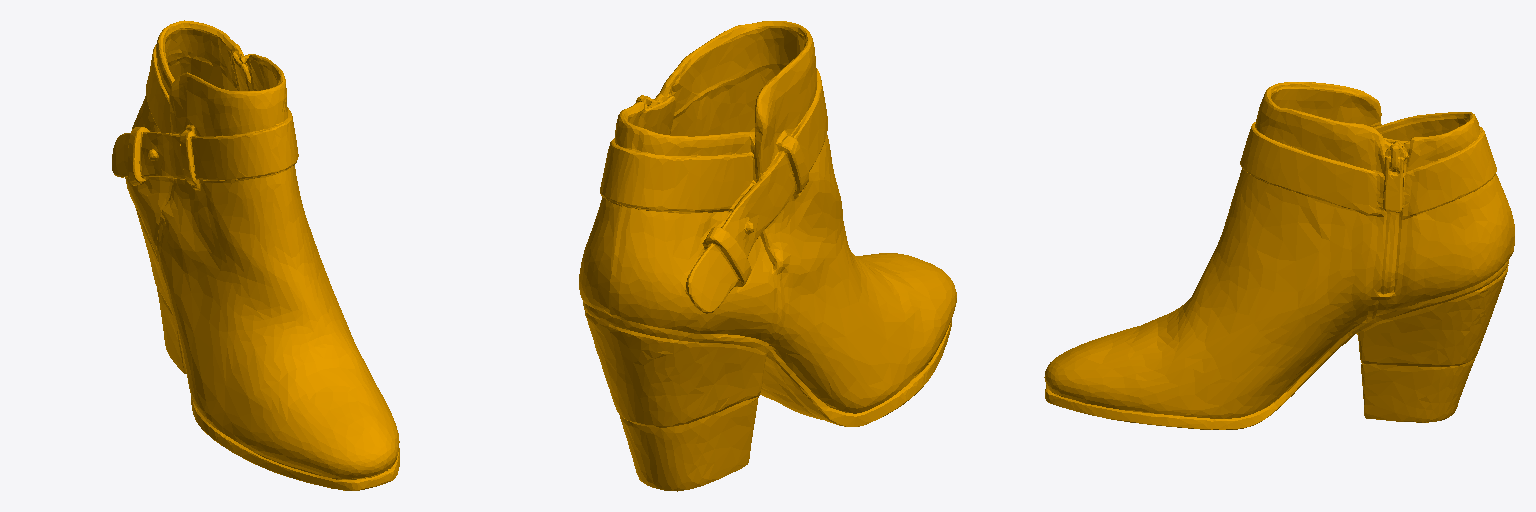
robot.urdf — 2kp2e9k7:
<?xml version='1.0'?>

<robot name="2kp2e9k7">
    <static>false</static>
    <link name="link">
        <inertial>
            <mass value="0.06337087344277101"/>
            <inertia ixx="8.268870610276219e-05" ixy="-2.509843488889836e-06" ixz="-1.1758455755710394e-06"
                     iyy="3.470825932562405e-05" iyz="-1.7407373804279262e-05" izz="6.041779463209516e-05"/>
        </inertial>
        <collision name="collision">
            <geometry>
                <mesh filename="package://miscnet/train/2kp2e9k7/collision_model_vhacd.obj"/>
            </geometry>
        </collision>
        <visual name="visual">
            <geometry>
                <mesh filename="package://miscnet/train/2kp2e9k7/visual_model.obj"/>
            </geometry>
        </visual>
    </link>
</robot>

--- Facts derived from the render (not from the file) ---
3 views of the same robot in one strip: view 1: azimuth 30°, elevation 25°; view 2: azimuth 150°, elevation 25°; view 3: azimuth 270°, elevation 25° (orthographic).
Robot: 2kp2e9k7 — 1 links, 0 joints (none); root link link; default pose: all joints at 0.
Links seen in each view (by area): view 1: link; view 2: link; view 3: link.
Boxes of the visible links, x1,y1,x2,y2 form: link: (112,20,399,490); link: (579,21,956,491); link: (1044,82,1514,429).
Bounding box of the posed robot: 0.0463 × 0.1319 × 0.0964 m (x, y, z).
Meshes: 1 distinct files referenced, 1 mesh visuals loaded (1 OBJ).
